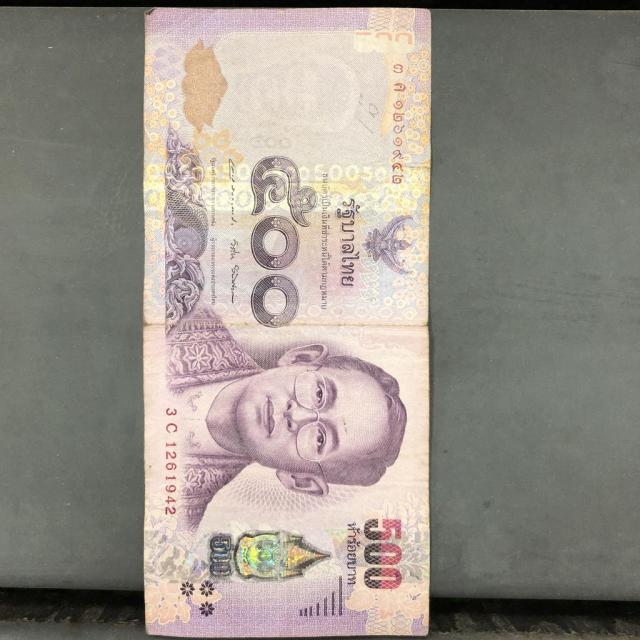THAI500: (141, 8, 432, 639)
